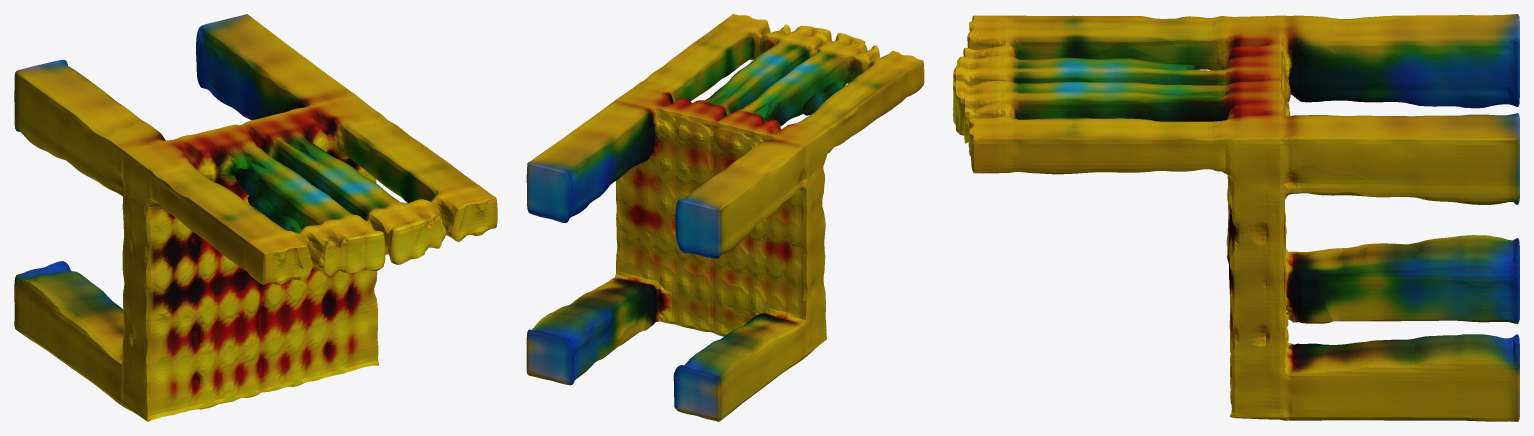
File: a_chair_lego.glb
The picture shows the model from 3 angles, left to right: view 1: azimuth 30°, elevation 25°; view 2: azimuth 150°, elevation 25°; view 3: azimuth 270°, elevation 25°; orthographic projection. The views are drawn at different scales.
Visible parts, largest first — view 1: 0.ply; view 2: 0.ply; view 3: 0.ply.
Part boxes in pixels (x1,y1,x2,y2): 0.ply: [14, 14, 497, 421]; 0.ply: [526, 14, 924, 421]; 0.ply: [953, 14, 1519, 421].
Bounding box in the file's own units: 1.03 × 1.08 × 1.96.
